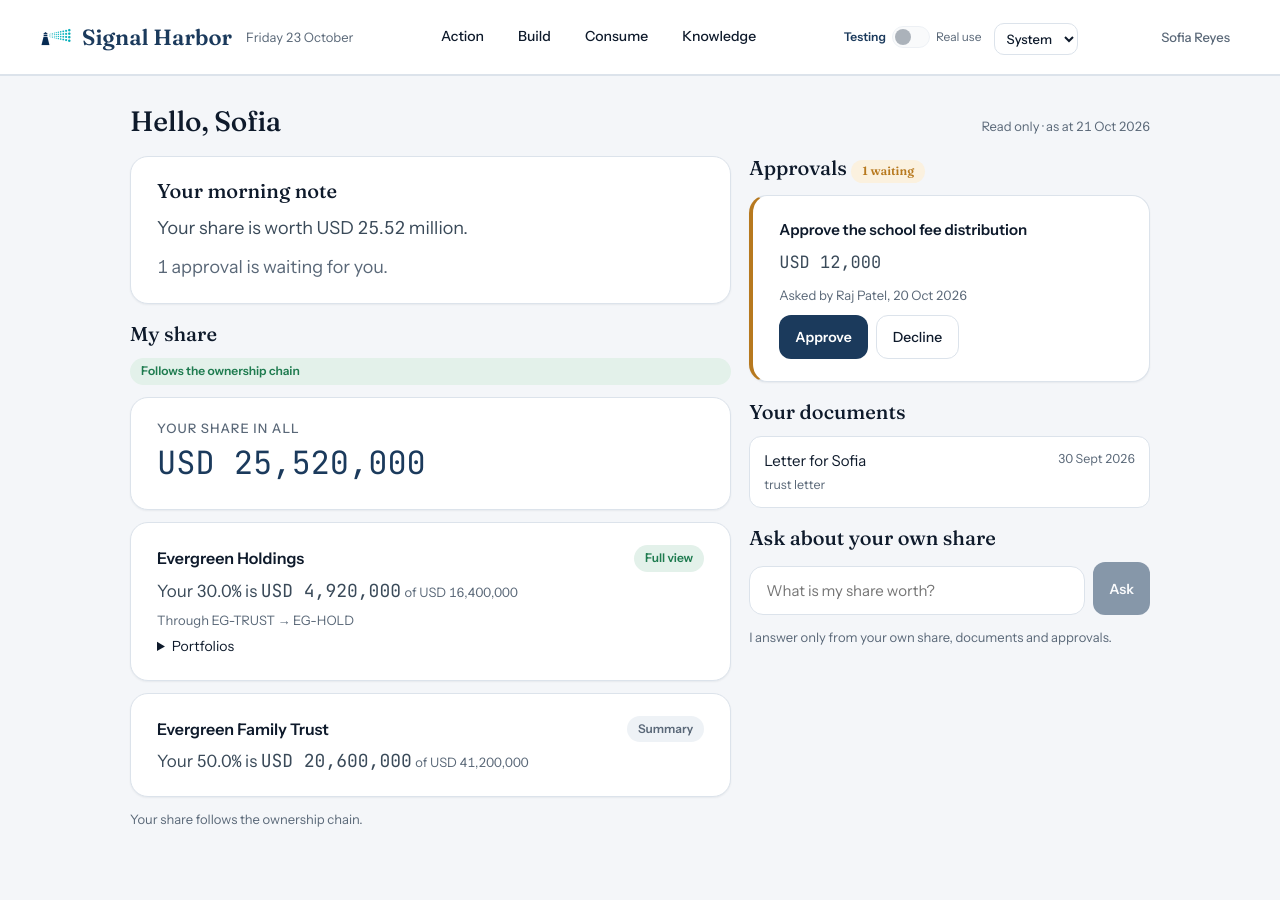
Test case: approving posts the decision and shows it done
Click the button "Approve" at (823, 337), box x1=779 y1=315 x2=868 y2=359
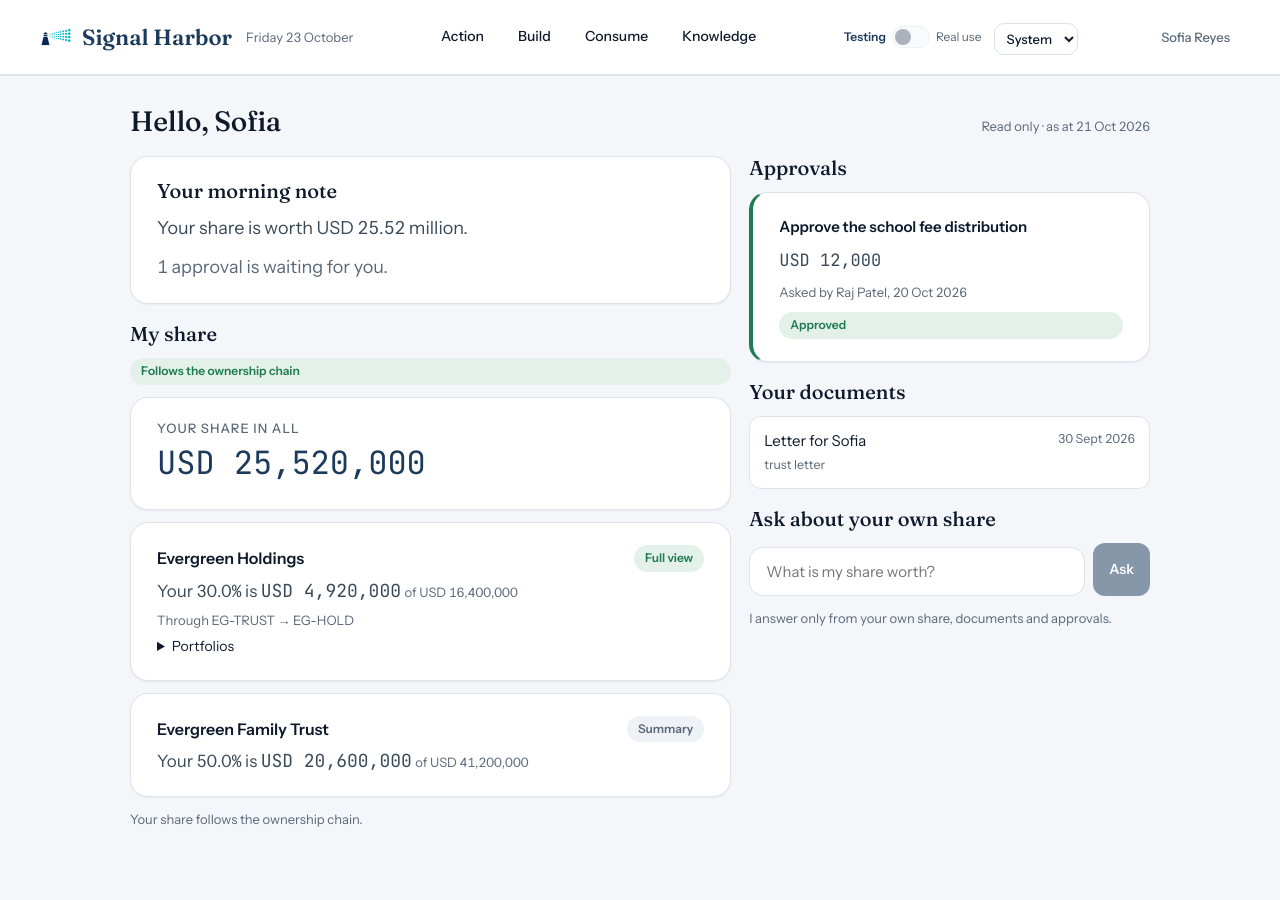
Expected: the text "Approved" is shown, x1=779 y1=312 x2=1123 y2=339
